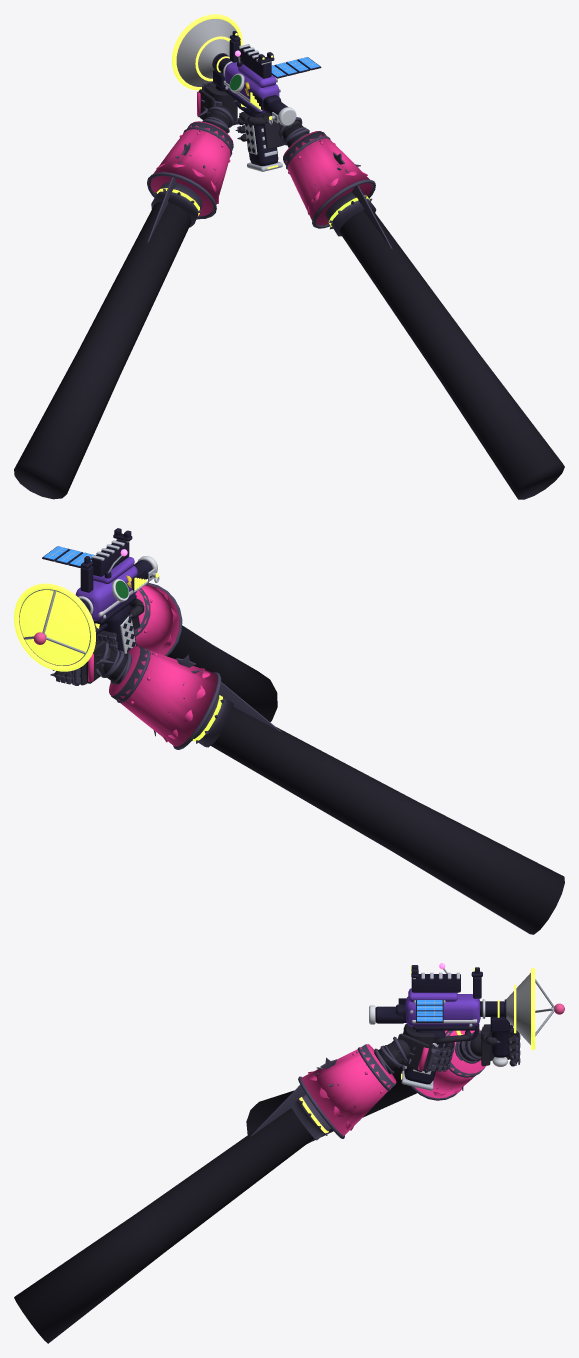
File: ground_control.glb
The picture shows the model from 3 angles, top to bottom: view 1: azimuth 30°, elevation 25°; view 2: azimuth 150°, elevation 25°; view 3: azimuth 270°, elevation 25°; orthographic projection. The views are drawn at different scales.
Parts seen in each view (by area): view 1: ArmR, ArmL, Shell, ArmRKitBell, ArmLKitBell, Dish, DishCore; view 2: ArmL, ArmLKitBell, DishCore, Shell, ArmR, ArmRKitBell, Dish, ArmLKitGauntlet, ArmLKitFins, ArmLKitMitten; view 3: ArmR, Shell, ArmRKitBell, ArmL, ArmLKitBell, Dish, ArmRKitGauntlet, ArmRKitMitten, DishCore, ArmRKitFins.
Part boxes in pixels (bbox=[...]): ArmR: bbox=[237, 101, 564, 499]; ArmL: bbox=[14, 83, 237, 499]; Shell: bbox=[213, 39, 296, 171]; ArmRKitBell: bbox=[283, 131, 375, 228]; ArmLKitBell: bbox=[147, 121, 233, 219]; Dish: bbox=[176, 19, 238, 86]; DishCore: bbox=[172, 14, 242, 90]; ArmL: bbox=[54, 638, 564, 934]; ArmLKitBell: bbox=[109, 646, 221, 749]; DishCore: bbox=[14, 583, 95, 671]; Shell: bbox=[75, 539, 159, 653]; ArmR: bbox=[94, 598, 277, 722]; ArmRKitBell: bbox=[134, 582, 182, 656]; Dish: bbox=[19, 589, 90, 665]; ArmLKitGauntlet: bbox=[53, 646, 157, 704]; ArmLKitFins: bbox=[96, 656, 281, 731]; ArmLKitMitten: bbox=[87, 640, 105, 683]; ArmR: bbox=[14, 1023, 470, 1343]; Shell: bbox=[369, 968, 510, 1090]; ArmRKitBell: bbox=[298, 1044, 396, 1138]; ArmL: bbox=[246, 1024, 518, 1143]; ArmLKitBell: bbox=[402, 1030, 485, 1100]; Dish: bbox=[504, 973, 564, 1044]; ArmRKitGauntlet: bbox=[352, 1034, 454, 1093]; ArmRKitMitten: bbox=[399, 1033, 429, 1071]; DishCore: bbox=[514, 968, 535, 1050]; ArmRKitFins: bbox=[250, 1052, 414, 1136].
Bounding box in the file's own units: 1.5 × 1.12 × 1.68.
